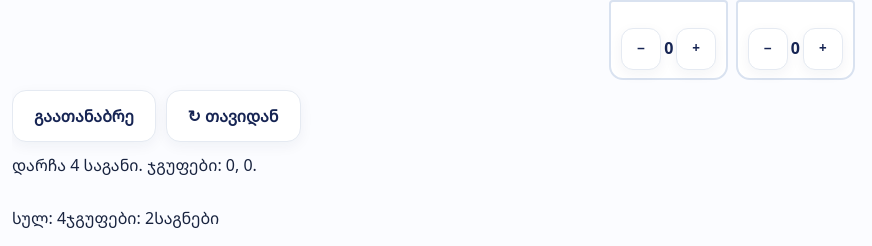
tools: the equal-groups lab › objects can be moved one by one
Click the button named "1-ე ჯგუფს დაამატე ერთი" at (696, 49), box [676,28,716,70]
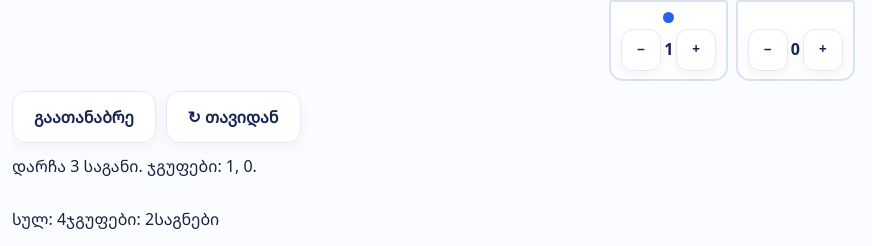
Expected: the message with class "lab-status" shows "1, 0", [12,155,257,177]
Click the button named "2-ე ჯგუფს დაამატე ერთი" at (823, 50), box [803,29,843,71]
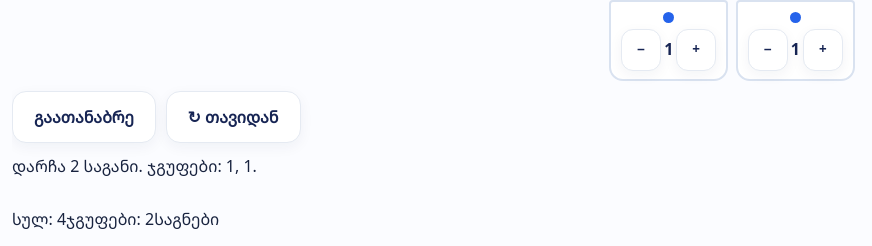
Click the button named "1-ე ჯგუფს დაამატე ერთი" at (696, 50), box [676,29,716,71]
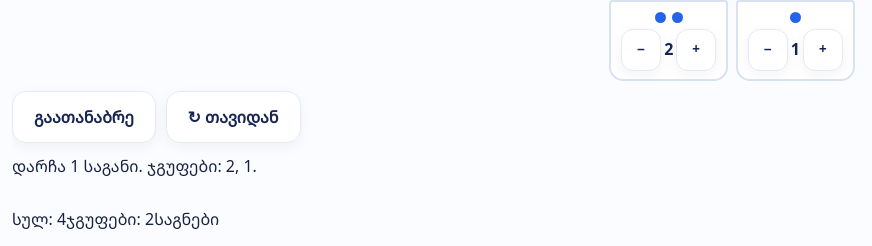
Click the button named "2-ე ჯგუფს დაამატე ერთი" at (823, 50), box [803,29,843,71]
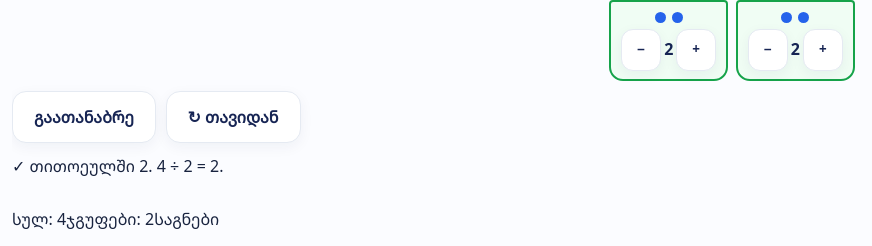
Expected: the message with class "lab-status" shows "✓", [12,155,224,177]
